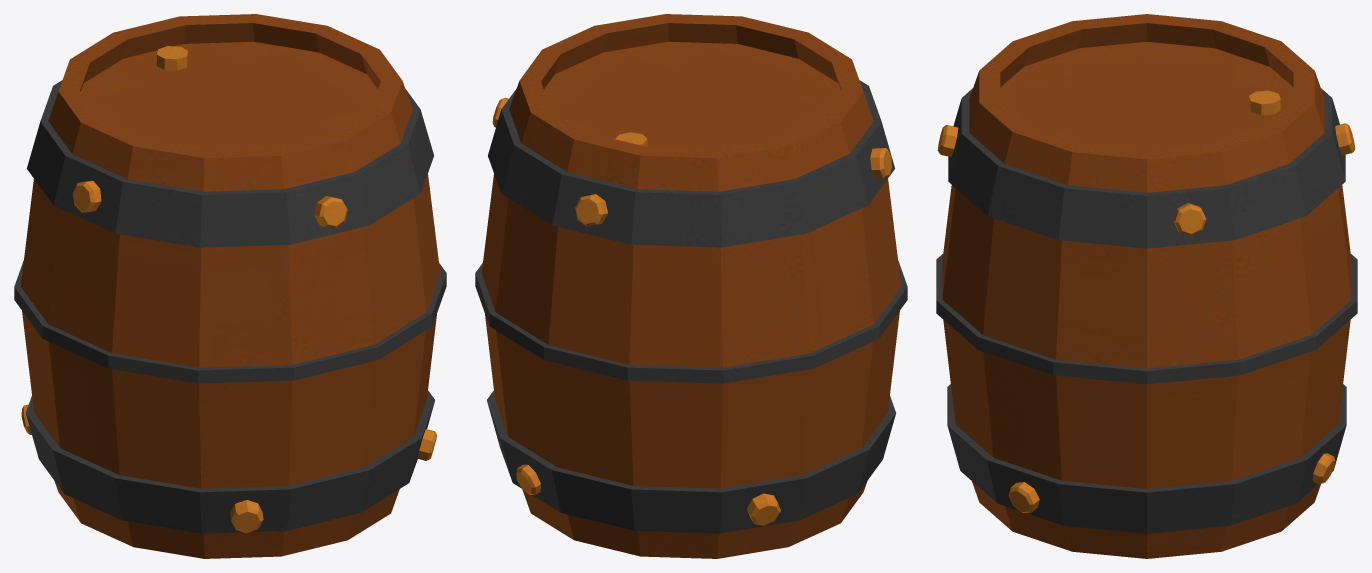
File: Barrel_model.fbx
The picture shows the model from 3 angles, left to right: view 1: azimuth 30°, elevation 25°; view 2: azimuth 150°, elevation 25°; view 3: azimuth 270°, elevation 25°; orthographic projection.
Visible parts, largest first — view 1: Cylinder; view 2: Cylinder; view 3: Cylinder.
Part boxes in pixels (x1,y1,x2,y2): Cylinder: (14,14,446,558); Cylinder: (475,14,907,558); Cylinder: (936,14,1357,558).
Size of the model in its own units: 126 by 128 by 123.
Materials: 1 (1 with a texture image).
